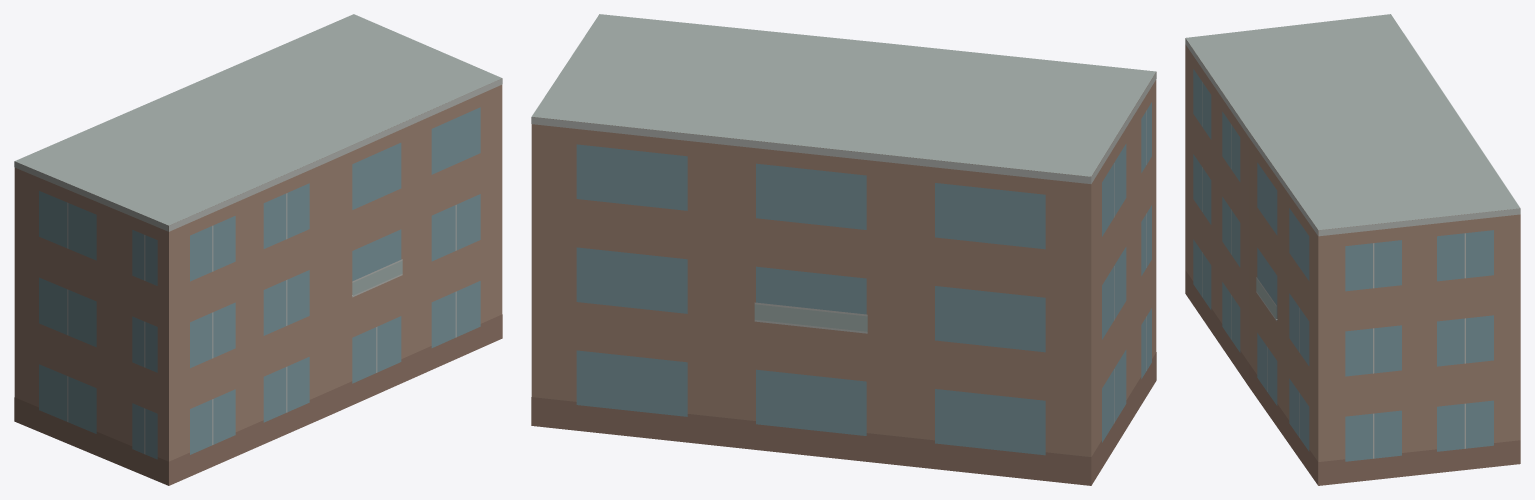
The model's file is survey-upis-32524207.glb.
The picture shows the model from 3 angles, left to right: view 1: azimuth 30°, elevation 25°; view 2: azimuth 150°, elevation 25°; view 3: azimuth 270°, elevation 25°; orthographic projection. The views are drawn at different scales.
Visible parts, largest first — view 1: survey-upis-32524207.tmp; view 2: survey-upis-32524207.tmp; view 3: survey-upis-32524207.tmp.
Part boxes in pixels (x1,y1,x2,y2): survey-upis-32524207.tmp: (14, 14, 502, 485); survey-upis-32524207.tmp: (531, 14, 1156, 485); survey-upis-32524207.tmp: (1185, 14, 1520, 485).
Bounding box in the file's own units: 18.51 × 10.2 × 12.13.
